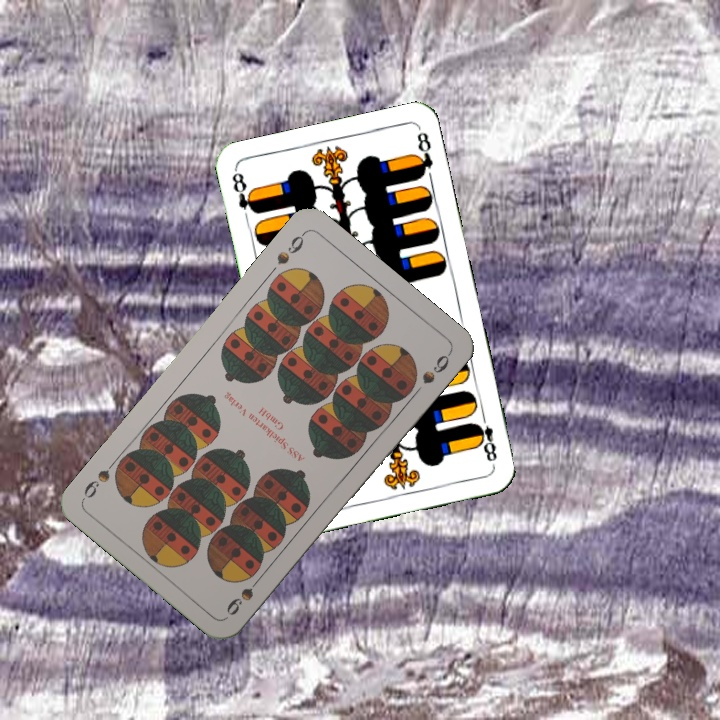E8: (228, 167, 260, 217), (470, 409, 499, 464)
S9: (222, 570, 266, 618), (272, 228, 308, 267)
